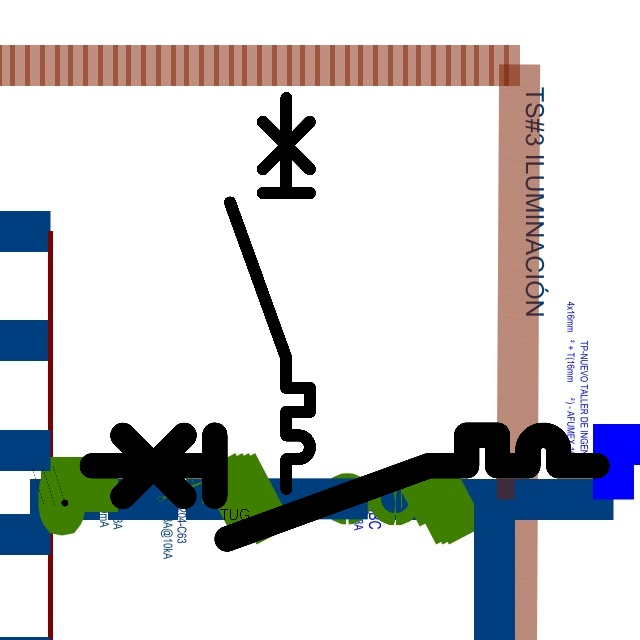interruptor_termomagnetico: (79, 422, 610, 552), (220, 88, 320, 499)
